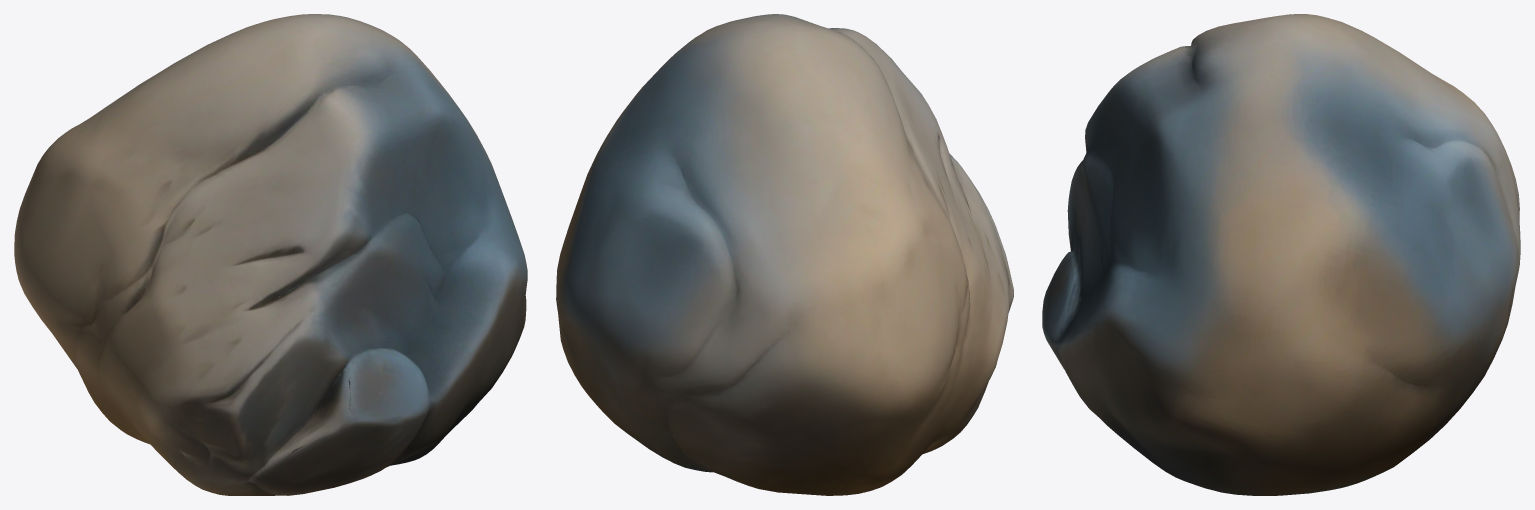
The model's file is large_rock_051293c4_v2.glb.
3 views of the same model, side by side, from view 1: azimuth 30°, elevation 25°; view 2: azimuth 150°, elevation 25°; view 3: azimuth 270°, elevation 25° (orthographic). The views are drawn at different scales.
Visible parts, largest first — view 1: material; view 2: material; view 3: material.
Part boxes in pixels (x1,y1,x2,y2): material: [14, 14, 527, 495]; material: [556, 14, 1013, 495]; material: [1042, 14, 1520, 495].
Size of the model in its own units: 1.88 by 1.89 by 1.9.
1 material, 1 textured.
